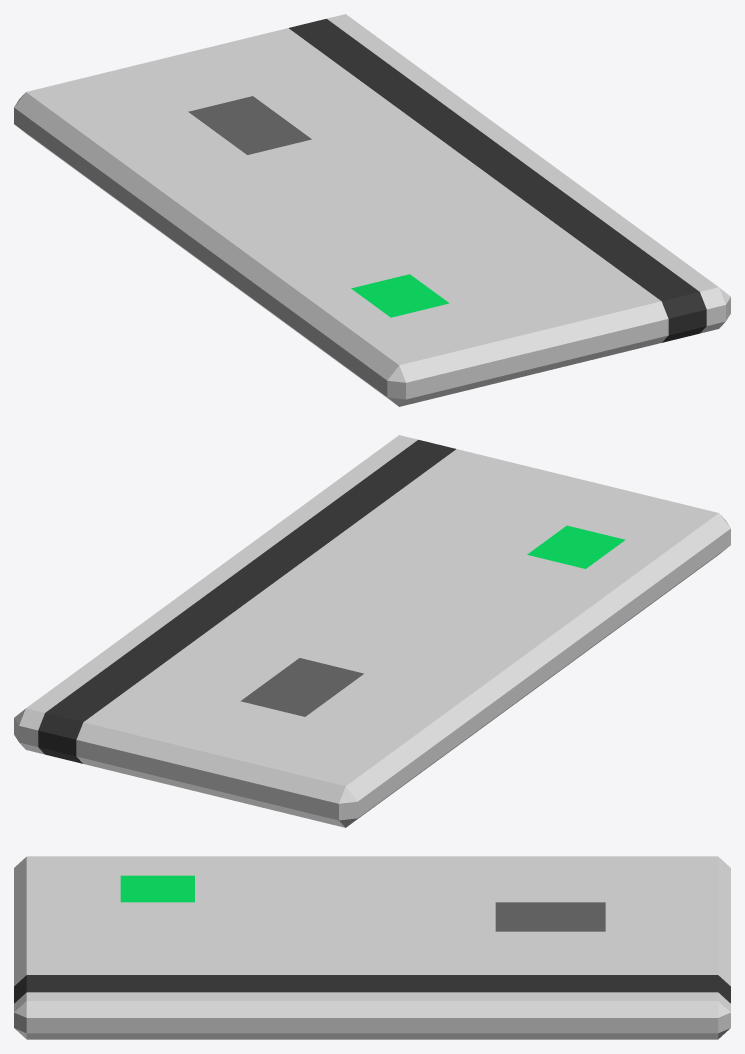
Rendered from KeyCard.fbx.
3 views of the same model, one above another, from view 1: azimuth 30°, elevation 25°; view 2: azimuth 150°, elevation 25°; view 3: azimuth 270°, elevation 25° (orthographic). The views are drawn at different scales.
Parts seen in each view (by area): view 1: KeyCard; view 2: KeyCard; view 3: KeyCard.
Boxes of the visible parts, bbox=[...] form: KeyCard: bbox=[14, 14, 730, 406]; KeyCard: bbox=[14, 435, 730, 827]; KeyCard: bbox=[14, 856, 730, 1039].
Bounding box in the file's own units: 0.7111 × 0.0824 × 1.39.
